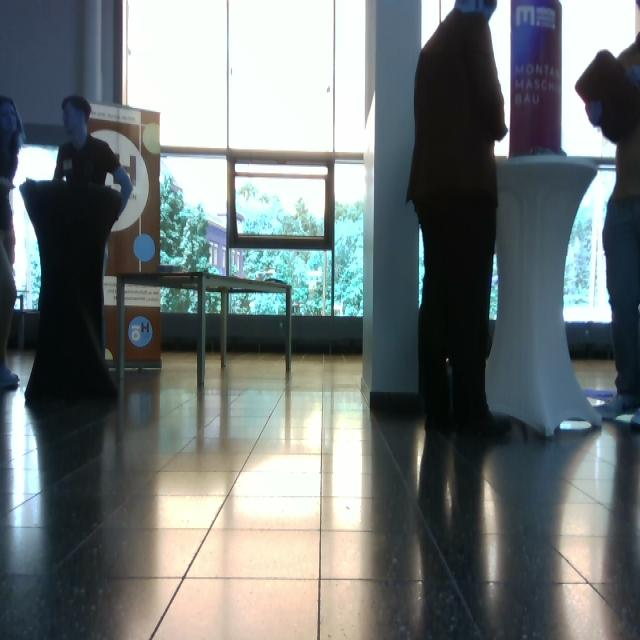light bulb: (575, 48, 639, 144), (454, 1, 498, 22)
person: (406, 1, 513, 437), (575, 5, 640, 424), (1, 96, 26, 389)
pillar: (486, 155, 603, 439), (361, 1, 422, 409)
table: (114, 269, 211, 392)
tiled floor: (2, 348, 639, 638)
window: (122, 1, 368, 321)
